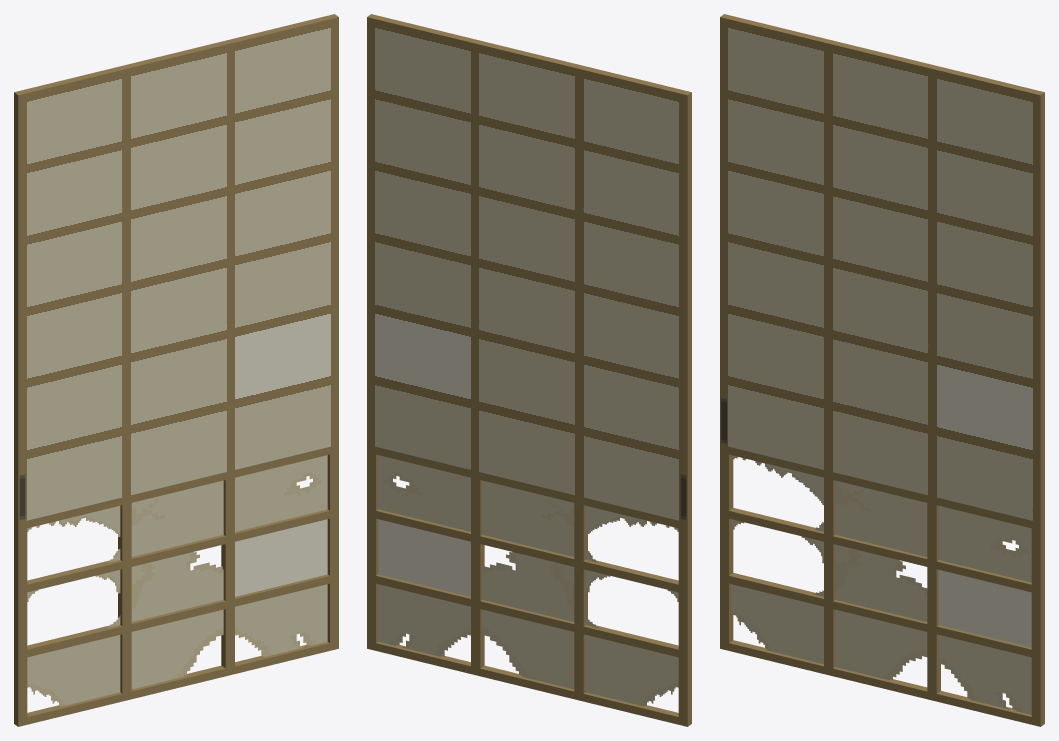
File: 04d8_Torn_Shoji.glb
3 views of the same model, side by side, from view 1: azimuth 30°, elevation 25°; view 2: azimuth 150°, elevation 25°; view 3: azimuth 330°, elevation 25° (orthographic).
Visible parts, largest first — view 1: part_0; view 2: part_0; view 3: part_0.
Boxes of the visible parts, left/top/right/bottom form: part_0: left=14, top=14, right=338, bottom=726; part_0: left=367, top=14, right=691, bottom=726; part_0: left=720, top=14, right=1044, bottom=726.
Size of the model in its own units: 0.957 by 1.8 by 0.0228.
Materials: 1 (1 with a texture image).
